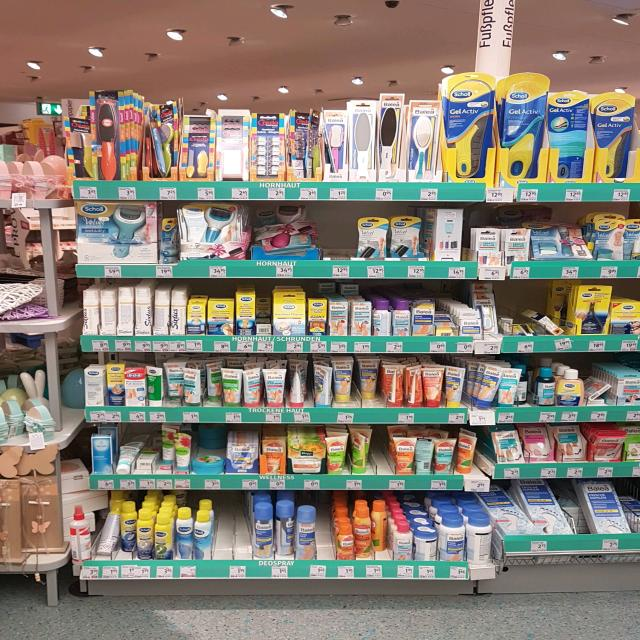void: (216, 492, 248, 578), (326, 205, 349, 282)
